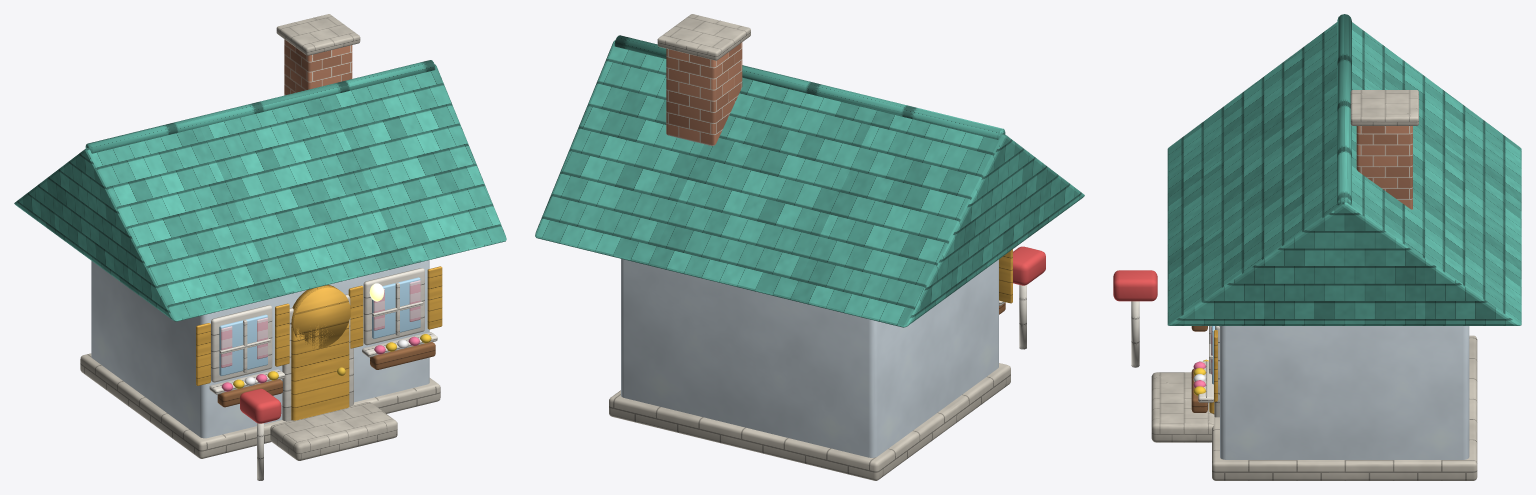
The model's file is house_shop.glb.
3 views of the same model, side by side, from view 1: azimuth 30°, elevation 25°; view 2: azimuth 150°, elevation 25°; view 3: azimuth 270°, elevation 25° (orthographic). The views are drawn at different scales.
Parts seen in each view (by area): view 1: house_shop; view 2: house_shop; view 3: house_shop.
Part boxes in pixels (x1=…): house_shop: x1=14, y1=14, x2=506, y2=480; house_shop: x1=535, y1=14, x2=1084, y2=480; house_shop: x1=1113, y1=14, x2=1521, y2=480.
Bounding box in the file's own units: 5.53 × 4.87 × 5.08.
15 materials, 8 textured.
